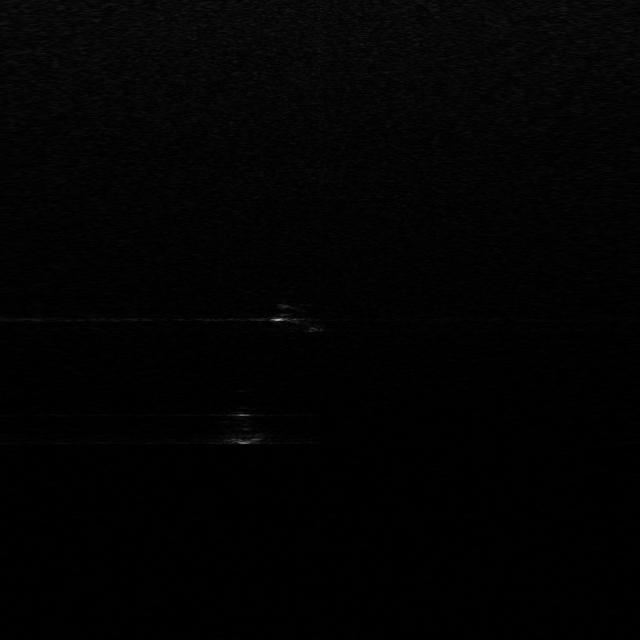ball: (210, 407, 274, 444)
tyre: (273, 301, 329, 335)
